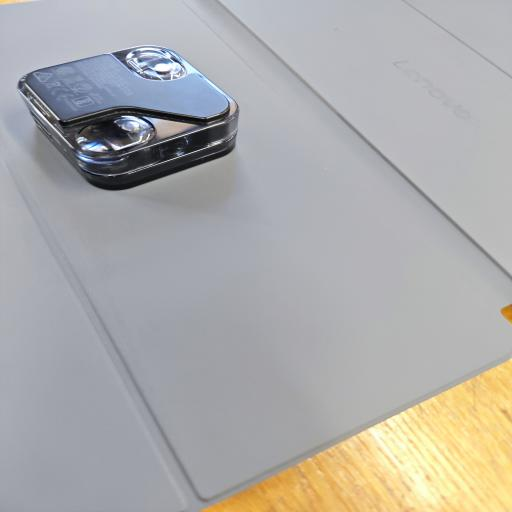CASTI: (12, 41, 245, 194)
